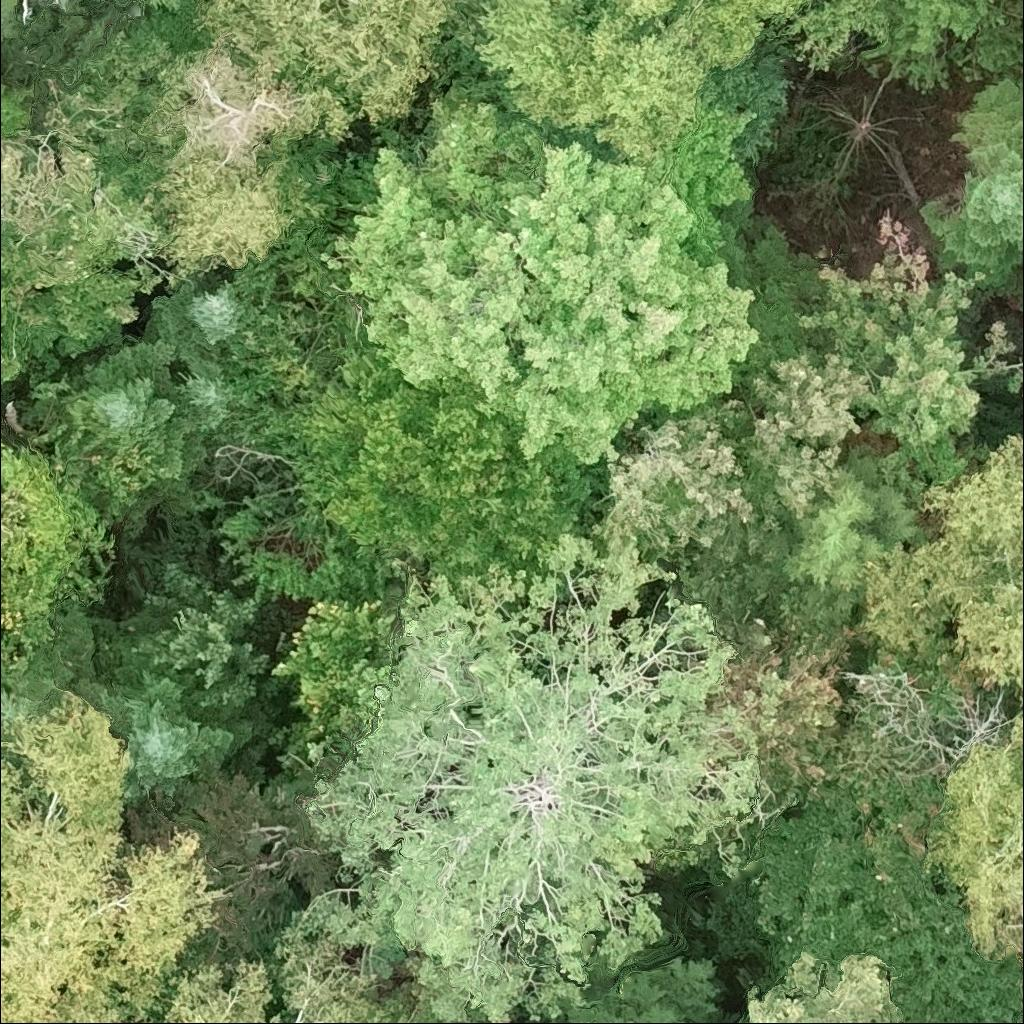crown: (277, 529, 783, 1023), (317, 94, 763, 468), (263, 350, 593, 604), (0, 687, 229, 1023), (0, 6, 194, 395), (141, 30, 354, 278), (438, 0, 713, 180), (797, 210, 988, 445), (857, 429, 1023, 699), (183, 0, 481, 128), (588, 388, 781, 561), (62, 937, 413, 1023), (0, 435, 121, 666), (707, 624, 852, 798), (733, 350, 872, 524), (928, 712, 1023, 961), (916, 73, 1023, 290), (778, 445, 926, 594), (63, 338, 208, 478), (95, 665, 239, 800), (271, 596, 400, 735), (787, 70, 926, 198), (141, 266, 270, 379), (732, 946, 916, 1023), (548, 957, 724, 1023), (691, 0, 816, 68), (174, 366, 250, 443), (591, 0, 690, 31), (399, 1008, 445, 1023), (38, 0, 71, 13), (19, 0, 33, 28), (1014, 1020, 1023, 1023), (503, 1021, 511, 1023), (474, 1023, 476, 1023)
